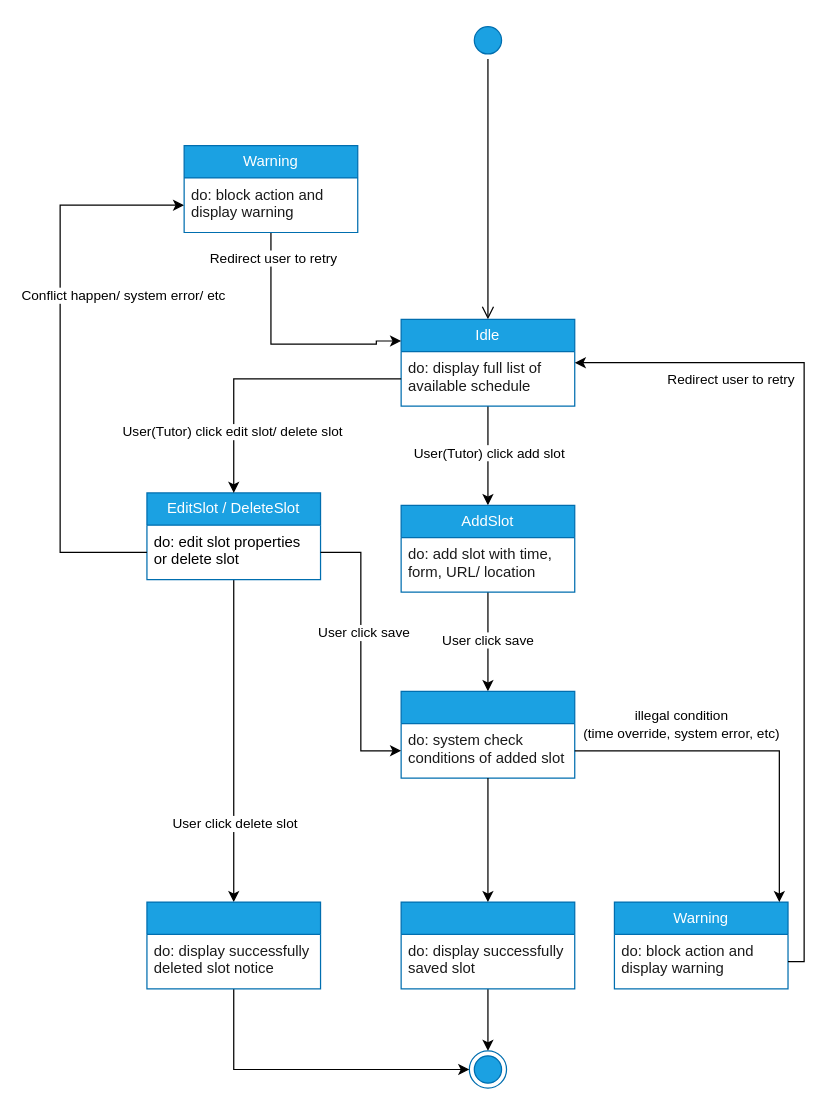
The diagram is 836 pixels wide and 1110 high, and some of its shapes have lost their labels. The shapes that lost their labels are listed below. From the top down, each one's box as (x1, y1, x2, y2) in pixels, then its label:
(400, 690, 575, 778): SaveSlot
(146, 901, 321, 989): DeleteSuccessfully
(400, 901, 575, 989): SaveSuccessful
